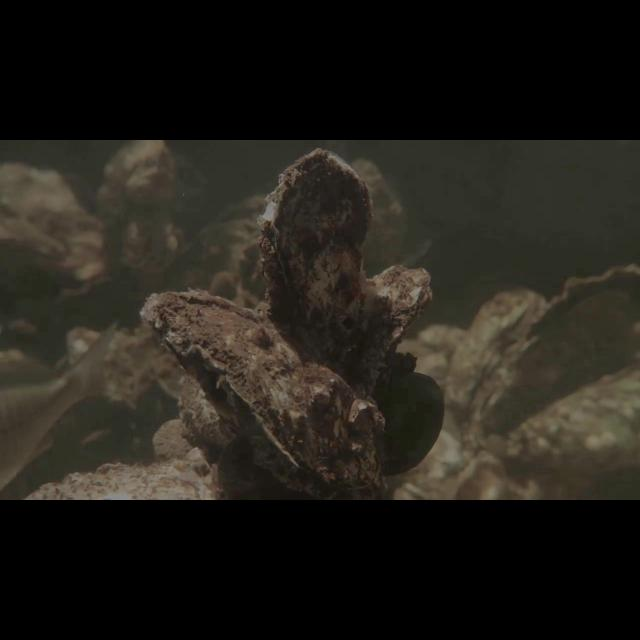Oyster-Closed: (133, 278, 403, 495), (461, 262, 639, 442), (252, 148, 384, 378), (496, 362, 636, 474), (445, 287, 539, 418), (24, 446, 223, 499), (371, 259, 437, 383), (172, 365, 242, 450)
